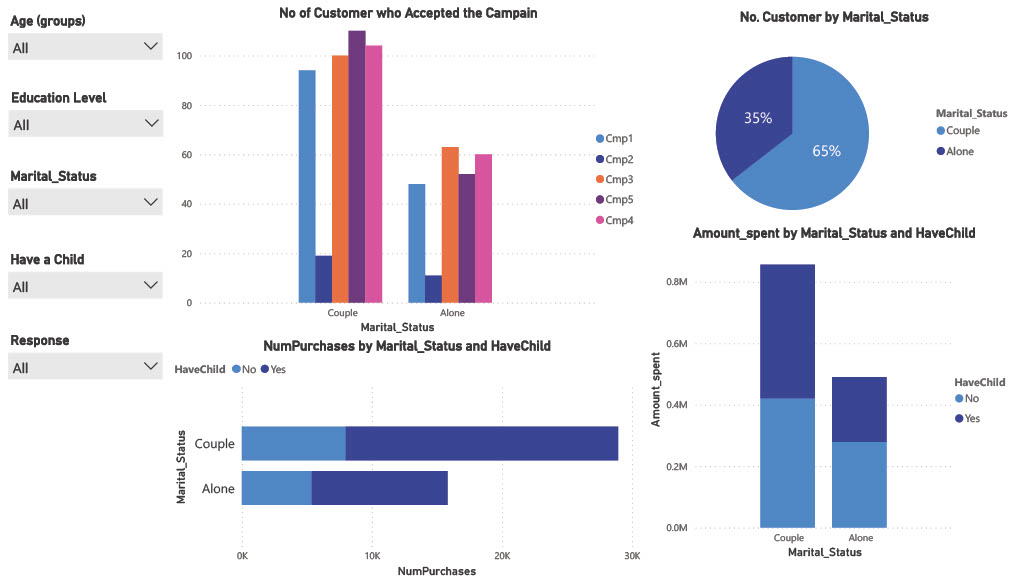

What the dashboard file says about the page in this screenshot:
{"tool":"powerbi","page":{"name":"Impact of Martial Status","canvas":[1280,720],"ordinal":3},"visuals":[{"type":"pieChart","fields":{"Category":["Table1.Marital_Status"],"Y":["CountNonNull(Table1.Marital_Status)"]},"box":[805.6,4.8,474,293.1],"z":0},{"type":"columnChart","fields":{"Category":["Table1.Marital_Status"],"Y":["Sum(Table1.Amount_spent)"],"Series":["Table1.HaveChild"]},"box":[805.6,275,474,422.1],"z":1000},{"type":"slicer","fields":{"Values":["Table1.Age (groups)"]},"box":[0,4.8,213.5,95.3],"z":2000},{"type":"slicer","fields":{"Values":["Table1.Education"]},"box":[1.2,101.3,213.5,97.7],"z":3000},{"type":"slicer","fields":{"Values":["Table1.Marital_Status"]},"box":[0,199,213.5,103.7],"z":4000},{"type":"slicer","fields":{"Values":["Table1.HaveChild"]},"box":[0,302.7,213.5,101.3],"z":5000},{"type":"slicer","fields":{"Values":["Table1.Response"]},"box":[0,404,213.5,101.3],"z":6000},{"type":"clusteredColumnChart","title":"No of Customer who Accepted the Campain","fields":{"Y":["Sum(Table1.Cmp1)","Sum(Table1.Cmp2)","Sum(Table1.Cmp3)","Sum(Table1.Cmp5)","Sum(Table1.Cmp4)"],"Category":["Table1.Marital_Status"]},"box":[214.7,0,591,416.1],"z":7000},{"type":"barChart","fields":{"Category":["Table1.Marital_Status"],"Y":["Sum(Table1.NumPurchases)"],"Series":["Table1.HaveChild"]},"box":[213.5,416.1,592.2,303.9],"z":8000}]}

Visuals, with their boxes in screenshot pixels (x1, y1, x2, y2), scaled from the page's 1280x720 canvas onto the 1024x585 screenshot:
pieChart - Table1.Marital_Status x CountNonNull(Table1.Marital_Status): <region>644, 4, 1023, 242</region>
columnChart - Table1.Marital_Status x Sum(Table1.Amount_spent): <region>644, 223, 1023, 566</region>
slicer - Table1.Age (groups): <region>0, 4, 171, 81</region>
slicer - Table1.Education: <region>1, 82, 172, 162</region>
slicer - Table1.Marital_Status: <region>0, 162, 171, 246</region>
slicer - Table1.HaveChild: <region>0, 246, 171, 328</region>
slicer - Table1.Response: <region>0, 328, 171, 411</region>
"No of Customer who Accepted the Campain" clusteredColumnChart: <region>172, 0, 645, 338</region>
barChart - Table1.Marital_Status x Sum(Table1.NumPurchases): <region>171, 338, 645, 584</region>
